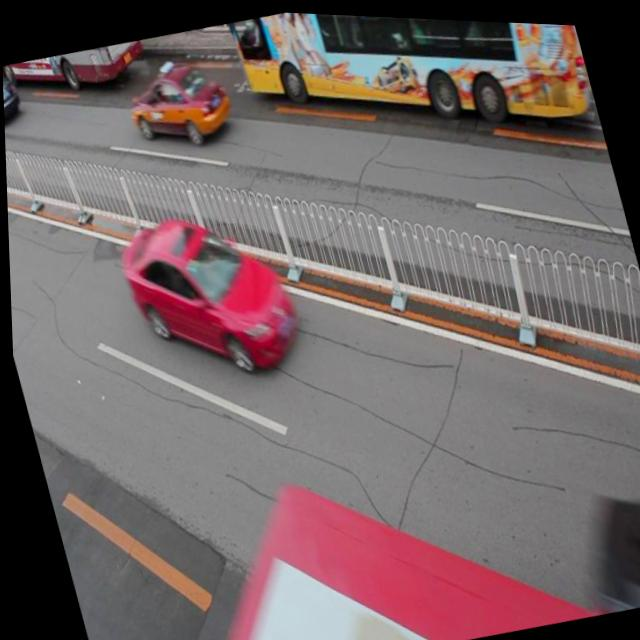car: (110, 193, 305, 393), (120, 51, 238, 156), (575, 465, 640, 608), (2, 64, 24, 136)
van: (168, 421, 593, 640), (227, 8, 598, 180), (1, 34, 148, 108)
